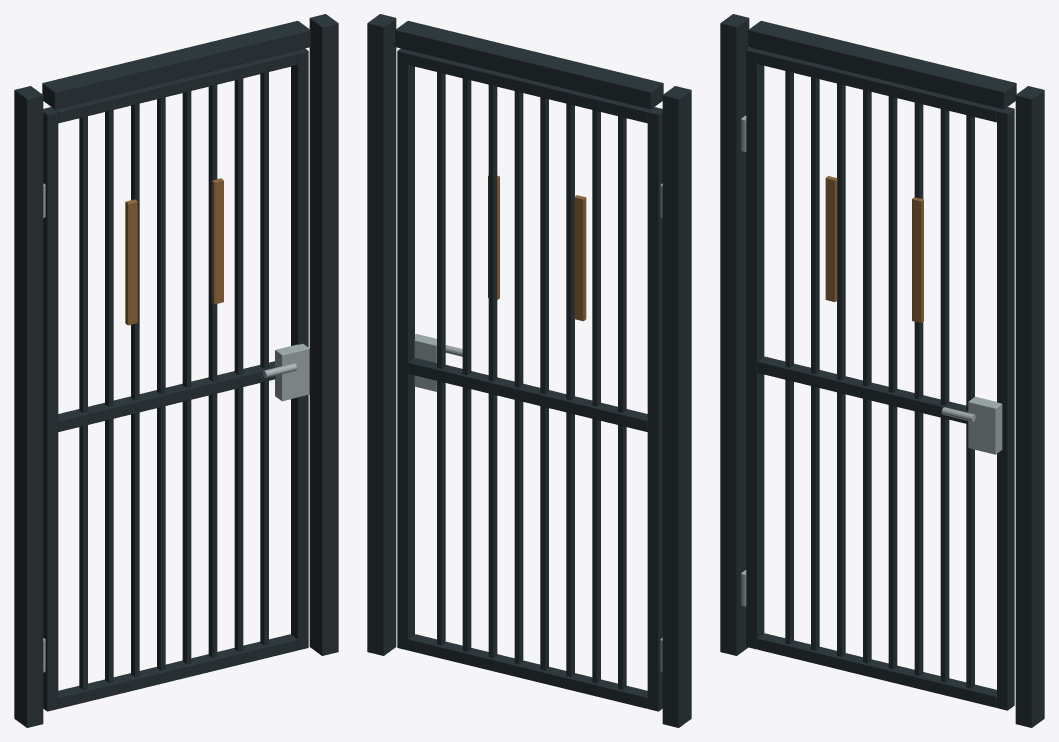
File: edited.glb
3 renders of one model, left to right at view 1: azimuth 30°, elevation 25°; view 2: azimuth 150°, elevation 25°; view 3: azimuth 330°, elevation 25°, orthographic.
Parts seen in each view (by area): view 1: FRAME_Jamb, FRAME_Jamb.001, LEAF_Stile.001, LEAF_Stile, FRAME_Header, LEAF_VerticalBar_07, LEAF_VerticalBar_05, LEAF_VerticalBar_04, LEAF_VerticalBar_01, LEAF_VerticalBar_02, LEAF_VerticalBar_08, LEAF_VerticalBar_06 (+7 smaller); view 2: FRAME_Jamb, FRAME_Jamb.001, LEAF_Stile.001, LEAF_Stile, FRAME_Header, LEAF_VerticalBar_07, LEAF_VerticalBar_05, LEAF_VerticalBar_06, LEAF_VerticalBar_04, LEAF_VerticalBar_03, LEAF_VerticalBar_01, LEAF_VerticalBar_02 (+6 smaller); view 3: FRAME_Jamb.001, FRAME_Jamb, LEAF_Stile, LEAF_Stile.001, FRAME_Header, LEAF_VerticalBar_05, LEAF_VerticalBar_07, LEAF_VerticalBar_01, LEAF_VerticalBar_02, LEAF_VerticalBar_03, LEAF_VerticalBar_04, LEAF_VerticalBar_08 (+7 smaller).
Boxes of the visible parts, bbox=[...] form: FRAME_Jamb: bbox=[14, 86, 43, 727]; FRAME_Jamb.001: bbox=[309, 14, 338, 655]; LEAF_Stile.001: bbox=[291, 48, 308, 650]; LEAF_Stile: bbox=[43, 107, 58, 711]; FRAME_Header: bbox=[42, 21, 310, 109]; LEAF_VerticalBar_07: bbox=[234, 78, 243, 651]; LEAF_VerticalBar_05: bbox=[182, 91, 191, 664]; LEAF_VerticalBar_04: bbox=[157, 97, 165, 670]; LEAF_VerticalBar_01: bbox=[79, 116, 87, 689]; LEAF_VerticalBar_02: bbox=[105, 110, 113, 683]; LEAF_VerticalBar_08: bbox=[260, 72, 268, 645]; LEAF_VerticalBar_06: bbox=[208, 85, 217, 657]; FRAME_Jamb: bbox=[662, 86, 691, 727]; FRAME_Jamb.001: bbox=[367, 14, 396, 655]; LEAF_Stile.001: bbox=[397, 48, 414, 650]; LEAF_Stile: bbox=[647, 107, 662, 711]; FRAME_Header: bbox=[395, 21, 663, 109]; LEAF_VerticalBar_07: bbox=[462, 78, 471, 651]; LEAF_VerticalBar_05: bbox=[514, 91, 523, 664]; LEAF_VerticalBar_06: bbox=[488, 85, 497, 657]; LEAF_VerticalBar_04: bbox=[540, 97, 548, 670]; LEAF_VerticalBar_03: bbox=[566, 103, 574, 676]; LEAF_VerticalBar_01: bbox=[618, 116, 626, 689]; LEAF_VerticalBar_02: bbox=[592, 110, 600, 683]; FRAME_Jamb.001: bbox=[1015, 86, 1044, 727]; FRAME_Jamb: bbox=[720, 14, 749, 655]; LEAF_Stile: bbox=[746, 47, 764, 649]; LEAF_Stile.001: bbox=[997, 107, 1014, 710]; FRAME_Header: bbox=[748, 21, 1016, 109]; LEAF_VerticalBar_05: bbox=[888, 96, 897, 669]; LEAF_VerticalBar_07: bbox=[940, 109, 949, 682]; LEAF_VerticalBar_01: bbox=[785, 71, 793, 644]; LEAF_VerticalBar_02: bbox=[811, 77, 819, 650]; LEAF_VerticalBar_03: bbox=[837, 83, 845, 656]; LEAF_VerticalBar_04: bbox=[863, 90, 871, 663]; LEAF_VerticalBar_08: bbox=[966, 115, 974, 688].
Bounding box in the file's own units: 1.12 × 2.16 × 0.137.
